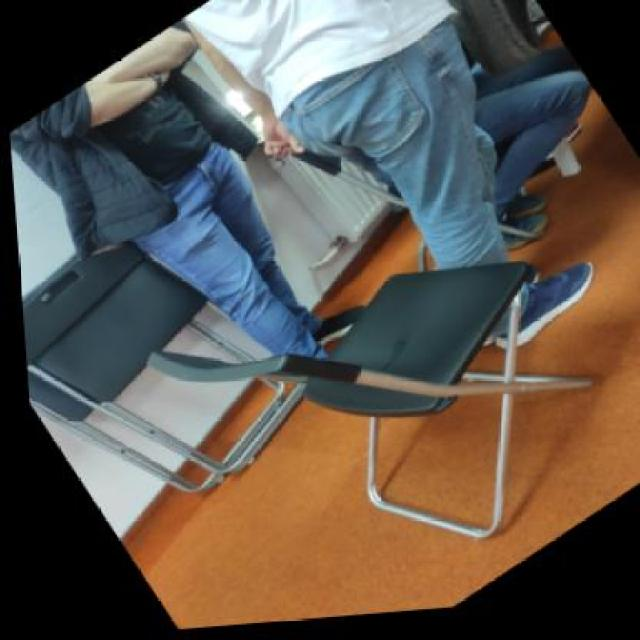chair: (104, 118, 638, 634)
